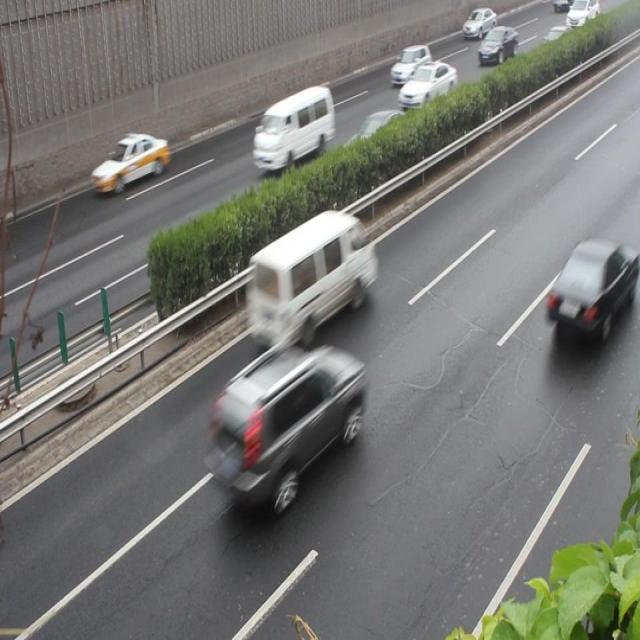car: (212, 342, 364, 497), (546, 236, 640, 333), (89, 129, 169, 193), (332, 109, 409, 175), (397, 62, 455, 109)
